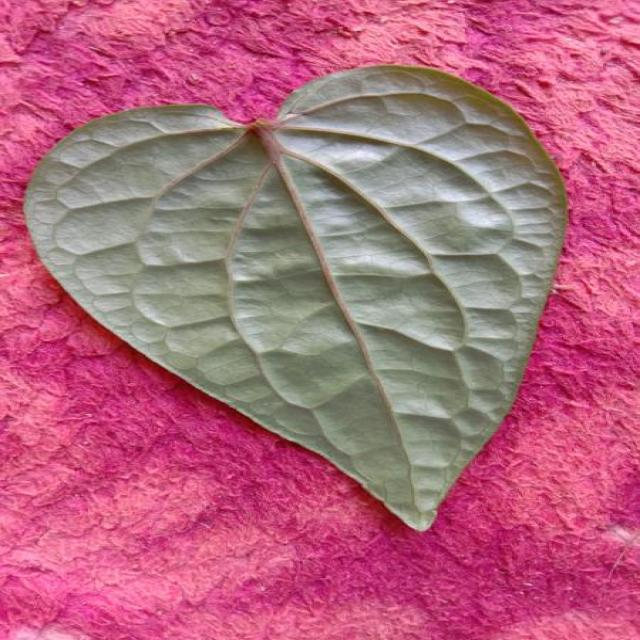betel: (27, 65, 567, 529)
